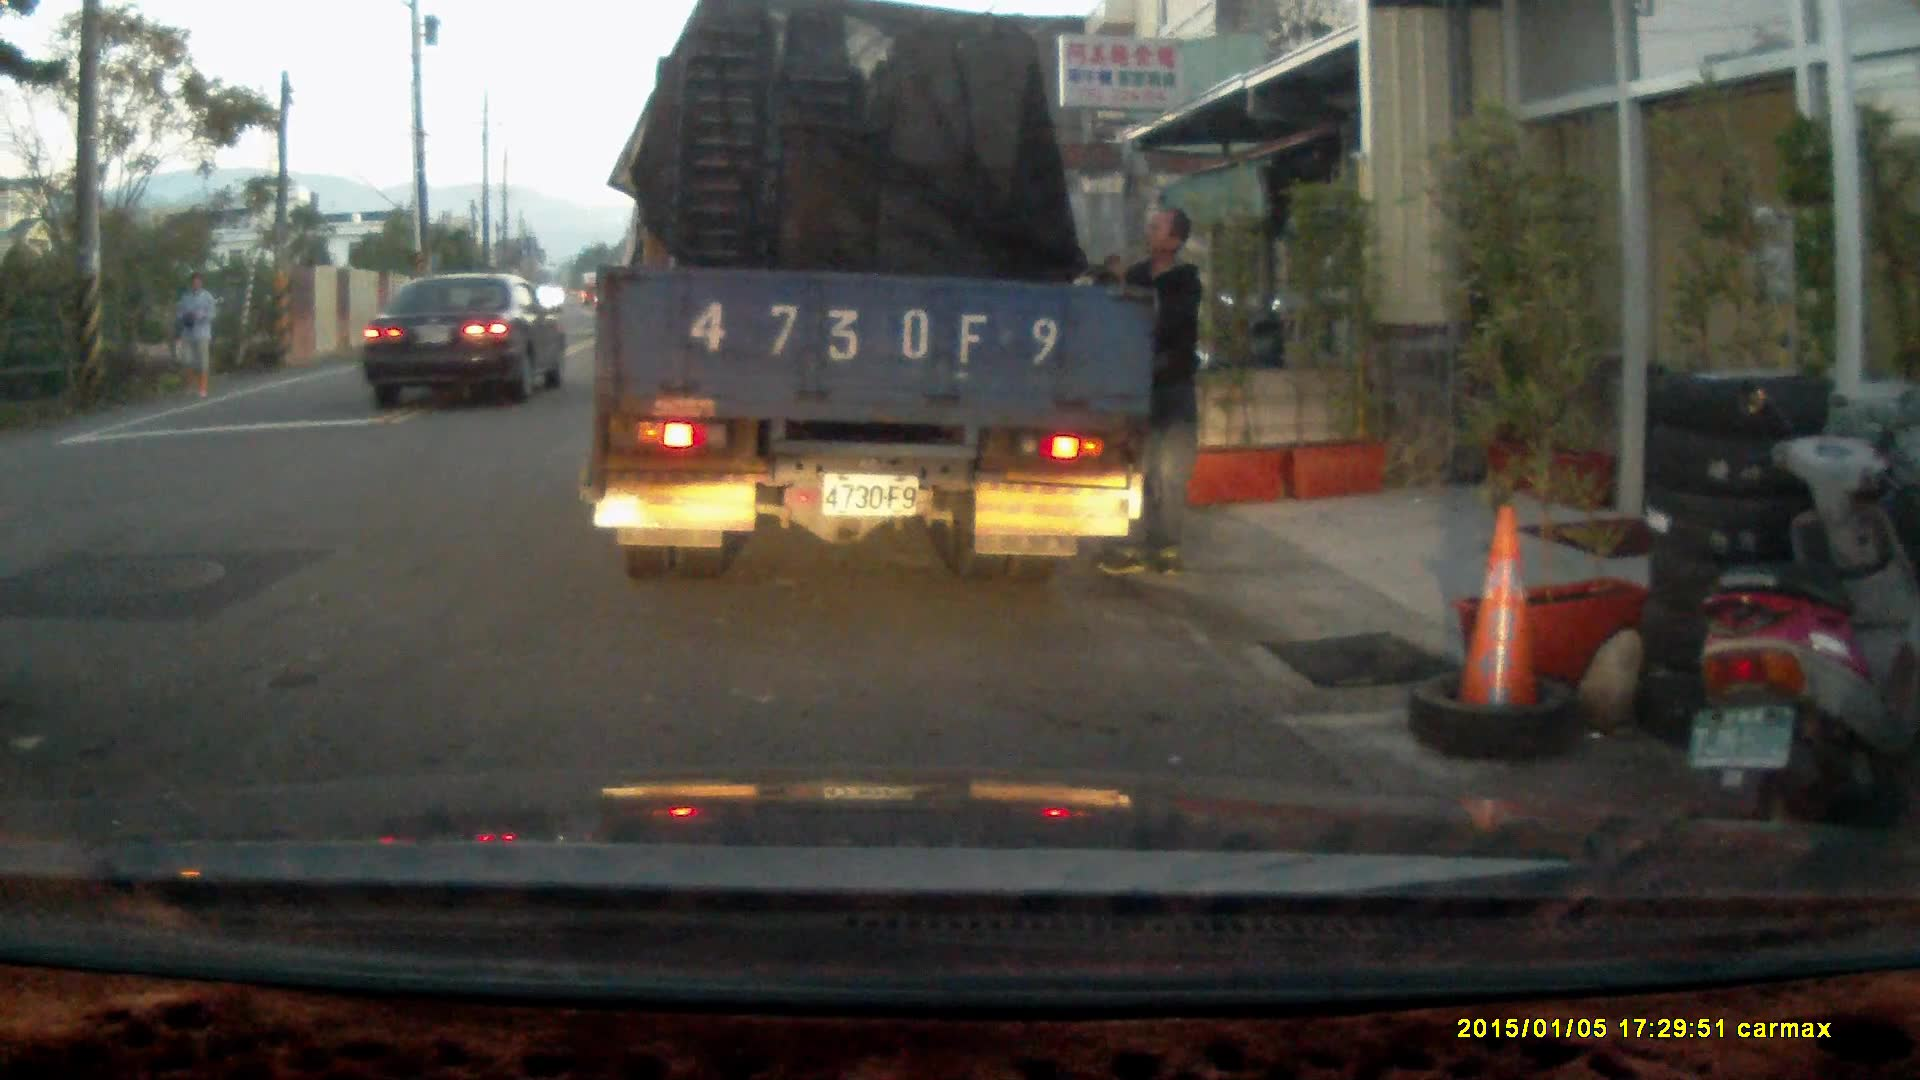pedestrian: (1080, 207, 1204, 581), (171, 272, 217, 403)
vehicle: (595, 23, 1157, 572), (365, 270, 570, 413)
